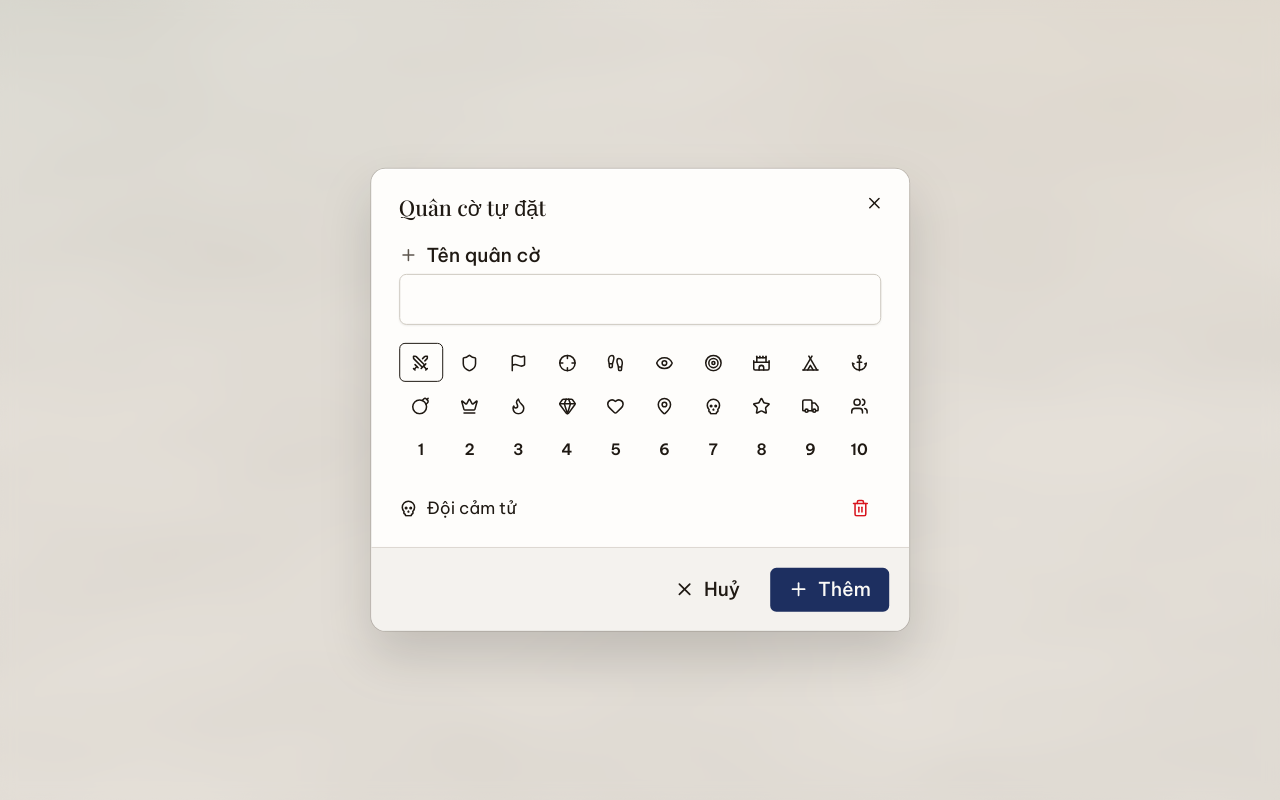
Test case: TokenPresetDialog › says why a preset could not be deleted, inside the dialog
The width and height of the screenshot is (1280, 800).
Click the button named "Xoá Đội cảm tử" at (860, 508), box top-left (840, 487), bottom-right (881, 529)
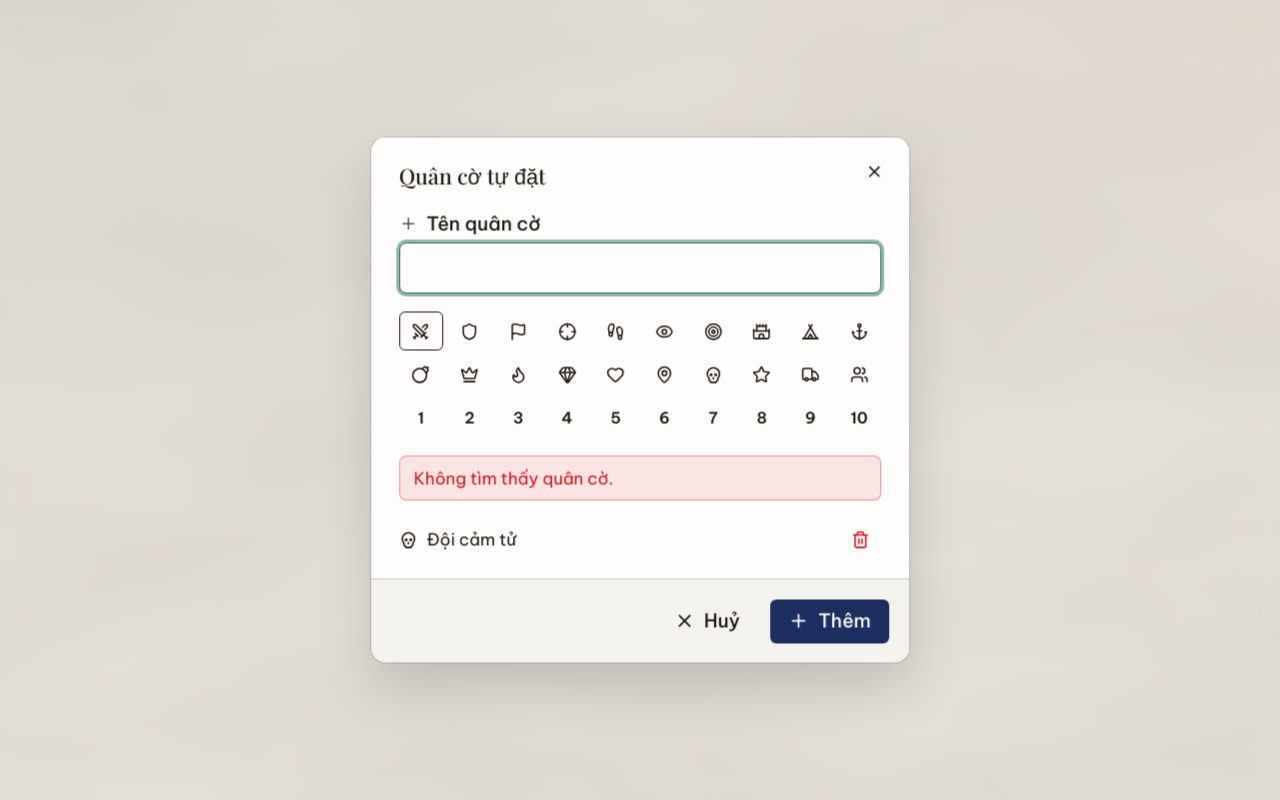
Result: the text "Không tìm thấy quân cờ." is shown at top-left (399, 456), bottom-right (881, 500)
